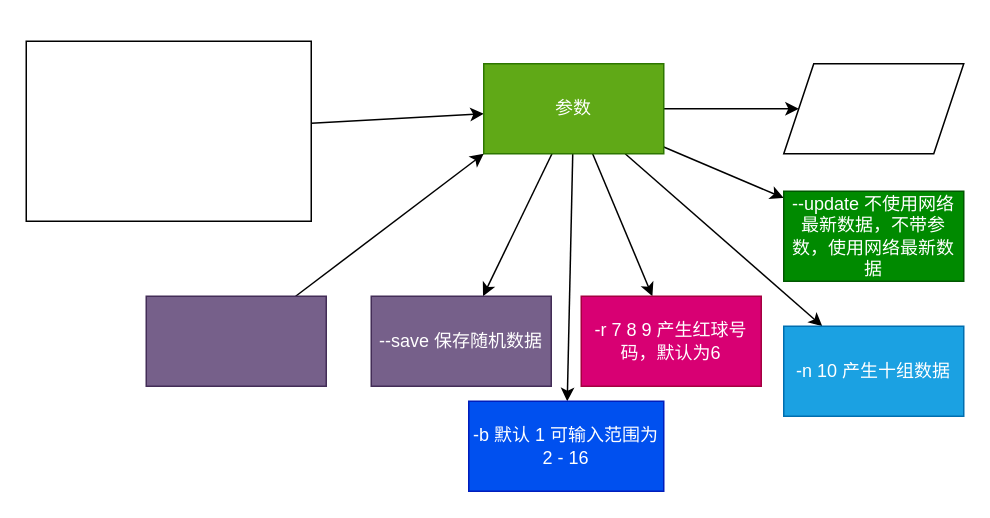
Image size: 990x518. Some labels were removed from this diagram. The shapes that lost their labels are listed below. From the top down, each one's box as (x1, y1, x2, y2) in pixels, then its label:
(782, 62, 964, 154): -h 显示所有参数
(25, 40, 311, 221): qls command 快速生成复合双色球规律的随机号码. 支持windows linux macos android
(145, 295, 326, 386): --noinx 不显示 ID depth
